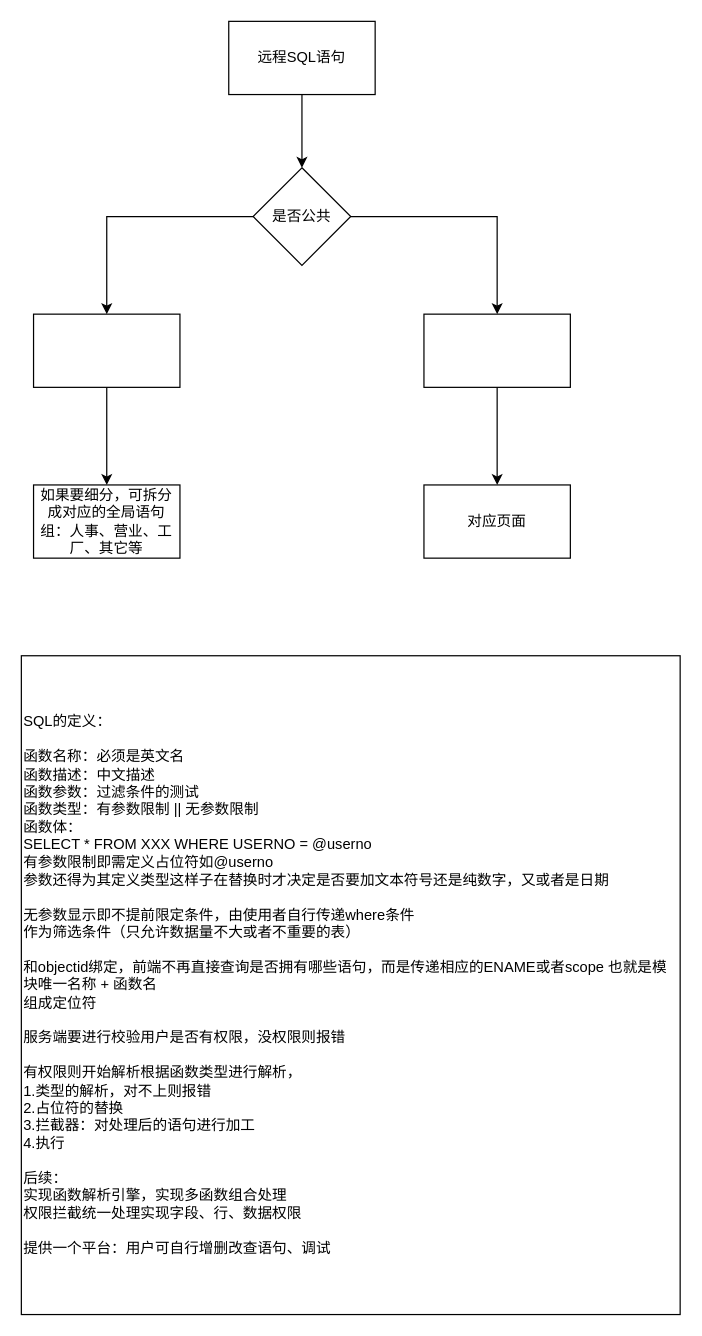
Image size: 702x1336. Some labels were removed from this diagram. Here are the shapes that lost their labels. From the top down, the centre of each, then its label:
(106,350): 全局语句
(496,350): 局部语句
